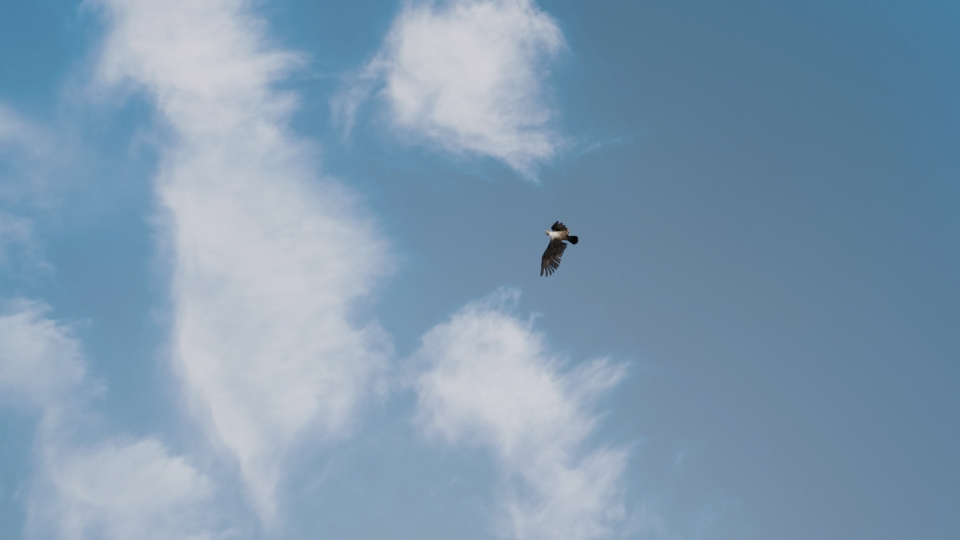bird: (540, 218, 577, 274)
